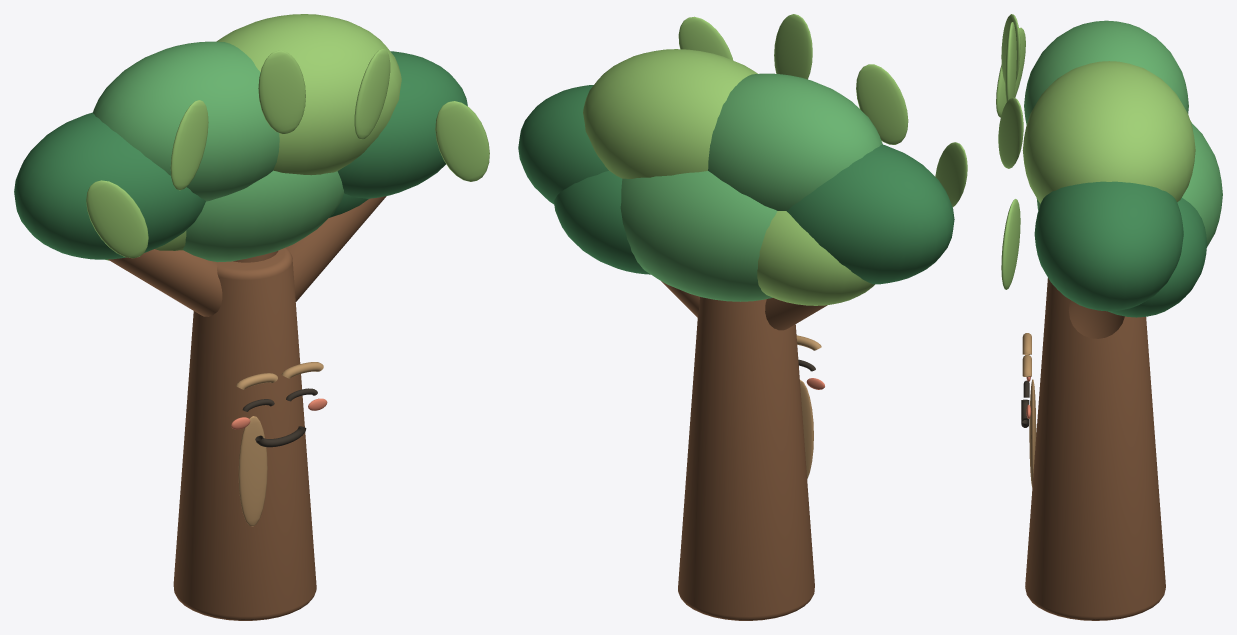
Rendered from npc-heritage-557.glb.
The picture shows the model from 3 angles, left to right: view 1: azimuth 30°, elevation 25°; view 2: azimuth 150°, elevation 25°; view 3: azimuth 270°, elevation 25°; orthographic projection. The views are drawn at different scales.
Visible parts, largest first — view 1: npc-heritage-557.Trunk, npc-heritage-557.Canopy.1, npc-heritage-557.Canopy.0, npc-heritage-557.Canopy.2, npc-heritage-557.Canopy.4, npc-heritage-557.Canopy.3, npc-heritage-557.Branch.0, npc-heritage-557.Leaf.0, npc-heritage-557.Branch.1, npc-heritage-557.Leaf.4, npc-heritage-557.Leaf.2, npc-heritage-557.TrunkPatch (+2 smaller); view 2: npc-heritage-557.Trunk, npc-heritage-557.Canopy.1, npc-heritage-557.Canopy.2, npc-heritage-557.Canopy.4, npc-heritage-557.Canopy.0, npc-heritage-557.Canopy.5, npc-heritage-557.Canopy.3, npc-heritage-557.Canopy.6, npc-heritage-557.Leaf.1, npc-heritage-557.Leaf.2, npc-heritage-557.Leaf.0, npc-heritage-557.Leaf.3 (+2 smaller); view 3: npc-heritage-557.Trunk, npc-heritage-557.Canopy.2, npc-heritage-557.Canopy.3, npc-heritage-557.Canopy.1, npc-heritage-557.Canopy.6, npc-heritage-557.Canopy.4, npc-heritage-557.Leaf.3, npc-heritage-557.Branch.1, npc-heritage-557.Leaf.4, npc-heritage-557.Leaf.2, npc-heritage-557.Leaf.0, npc-heritage-557.Leaf.1 (+1 smaller).
Part boxes in pixels (x1=…): npc-heritage-557.Trunk: x1=173, y1=248, x2=316, y2=620; npc-heritage-557.Canopy.1: x1=92, y1=41, x2=279, y2=201; npc-heritage-557.Canopy.0: x1=14, y1=112, x2=205, y2=259; npc-heritage-557.Canopy.2: x1=216, y1=14, x2=401, y2=175; npc-heritage-557.Canopy.4: x1=183, y1=170, x2=344, y2=262; npc-heritage-557.Canopy.3: x1=337, y1=51, x2=467, y2=198; npc-heritage-557.Branch.0: x1=108, y1=249, x2=222, y2=316; npc-heritage-557.Leaf.0: x1=86, y1=180, x2=148, y2=258; npc-heritage-557.Branch.1: x1=285, y1=196, x2=386, y2=301; npc-heritage-557.Leaf.4: x1=435, y1=101, x2=489, y2=181; npc-heritage-557.Leaf.2: x1=258, y1=50, x2=305, y2=134; npc-heritage-557.TrunkPatch: x1=238, y1=416, x2=267, y2=526; npc-heritage-557.Trunk: x1=678, y1=297, x2=814, y2=620; npc-heritage-557.Canopy.1: x1=708, y1=73, x2=882, y2=210; npc-heritage-557.Canopy.2: x1=583, y1=49, x2=757, y2=178; npc-heritage-557.Canopy.4: x1=620, y1=171, x2=777, y2=301; npc-heritage-557.Canopy.0: x1=786, y1=144, x2=954, y2=284; npc-heritage-557.Canopy.5: x1=757, y1=211, x2=874, y2=305; npc-heritage-557.Canopy.3: x1=518, y1=85, x2=608, y2=204; npc-heritage-557.Canopy.6: x1=554, y1=171, x2=650, y2=274; npc-heritage-557.Leaf.1: x1=856, y1=64, x2=908, y2=144; npc-heritage-557.Leaf.2: x1=774, y1=14, x2=812, y2=79; npc-heritage-557.Leaf.0: x1=935, y1=142, x2=967, y2=206; npc-heritage-557.Leaf.3: x1=678, y1=16, x2=733, y2=60; npc-heritage-557.Trunk: x1=1025, y1=278, x2=1165, y2=620; npc-heritage-557.Canopy.2: x1=1022, y1=61, x2=1195, y2=203; npc-heritage-557.Canopy.3: x1=1034, y1=181, x2=1183, y2=311; npc-heritage-557.Canopy.1: x1=1024, y1=20, x2=1188, y2=124; npc-heritage-557.Canopy.6: x1=1108, y1=198, x2=1207, y2=317; npc-heritage-557.Canopy.4: x1=1036, y1=122, x2=1222, y2=246; npc-heritage-557.Leaf.3: x1=998, y1=97, x2=1023, y2=168; npc-heritage-557.Branch.1: x1=1068, y1=300, x2=1124, y2=338; npc-heritage-557.Leaf.4: x1=1001, y1=199, x2=1020, y2=289; npc-heritage-557.Leaf.2: x1=1005, y1=22, x2=1016, y2=101; npc-heritage-557.Leaf.0: x1=996, y1=27, x2=1025, y2=117; npc-heritage-557.Leaf.1: x1=1001, y1=14, x2=1020, y2=83.
Size of the model in its own units: 3.66 by 4.58 by 1.66.
